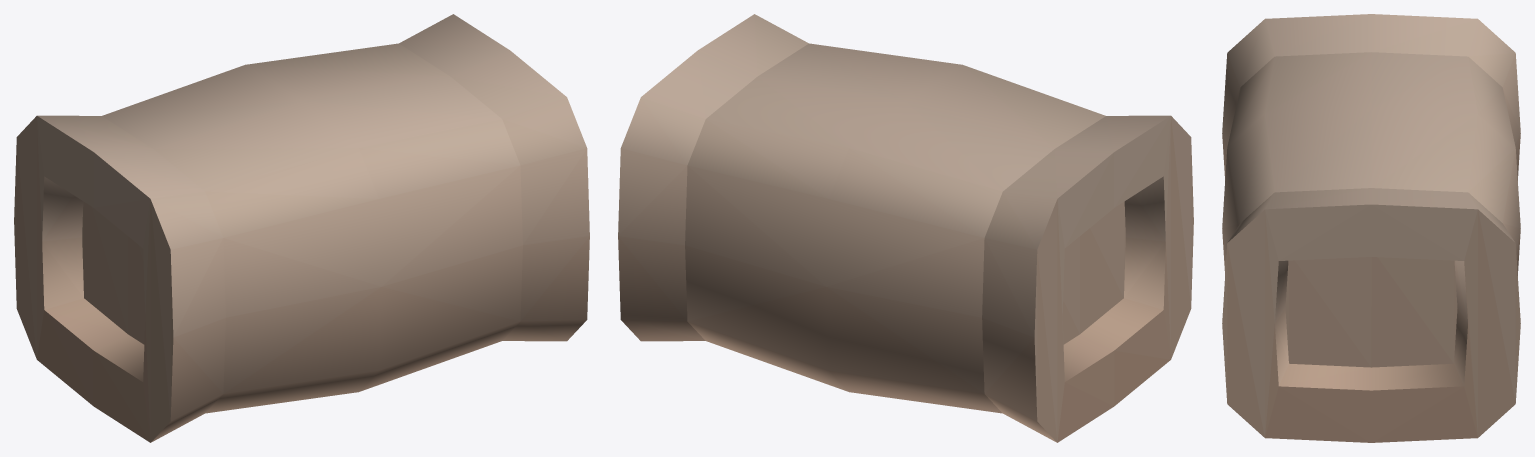
The model's file is kgy_hay-bale.fbx.
3 renders of one model, left to right at view 1: azimuth 30°, elevation 25°; view 2: azimuth 150°, elevation 25°; view 3: azimuth 270°, elevation 25°, orthographic. The views are drawn at different scales.
Visible parts, largest first — view 1: hay-bale; view 2: hay-bale; view 3: hay-bale.
Boxes of the visible parts, box(x1,y1,x2,y2) form: hay-bale: box(14, 14, 589, 442); hay-bale: box(618, 14, 1193, 442); hay-bale: box(1222, 14, 1520, 442).
Size of the model in its own units: 60.66 by 35.41 by 40.19.
